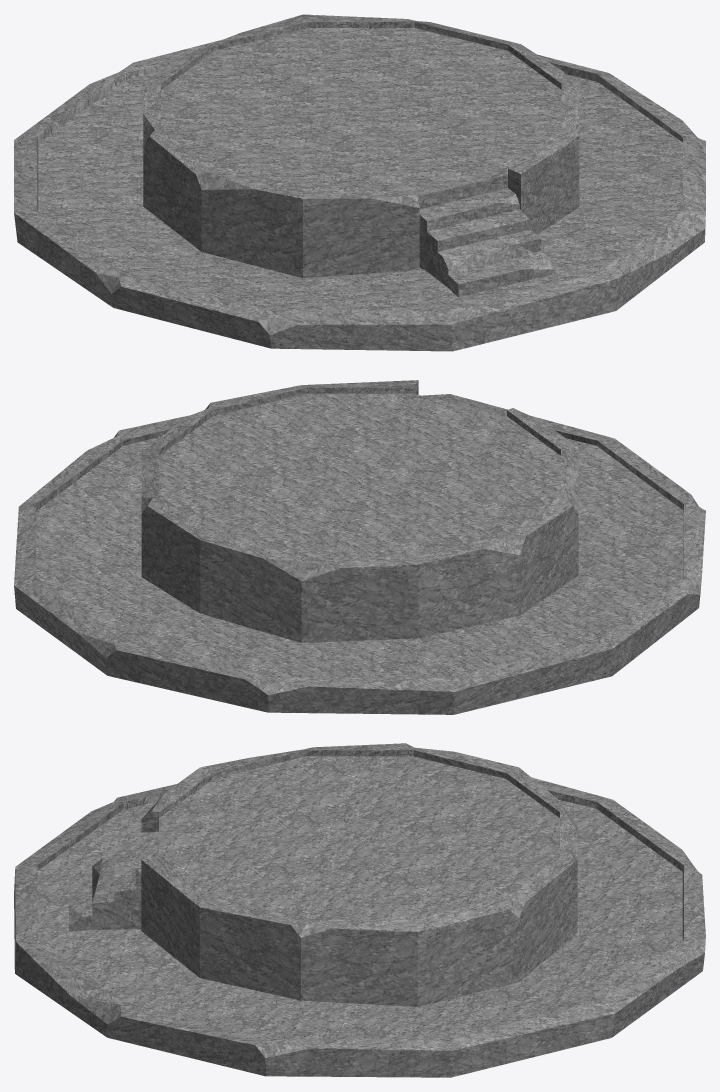
File: materials_3_base_0.fbx
3 renders of one model, top to bottom at view 1: azimuth 30°, elevation 25°; view 2: azimuth 150°, elevation 25°; view 3: azimuth 270°, elevation 25°, orthographic.
Visible parts, largest first — view 1: materials_3_base_0; view 2: materials_3_base_0; view 3: materials_3_base_0.
Part boxes in pixels (x1,y1,x2,y2): materials_3_base_0: (14,14,705,351); materials_3_base_0: (14,380,705,714); materials_3_base_0: (14,743,705,1077).
Size of the model in its own units: 743 by 117 by 745.
